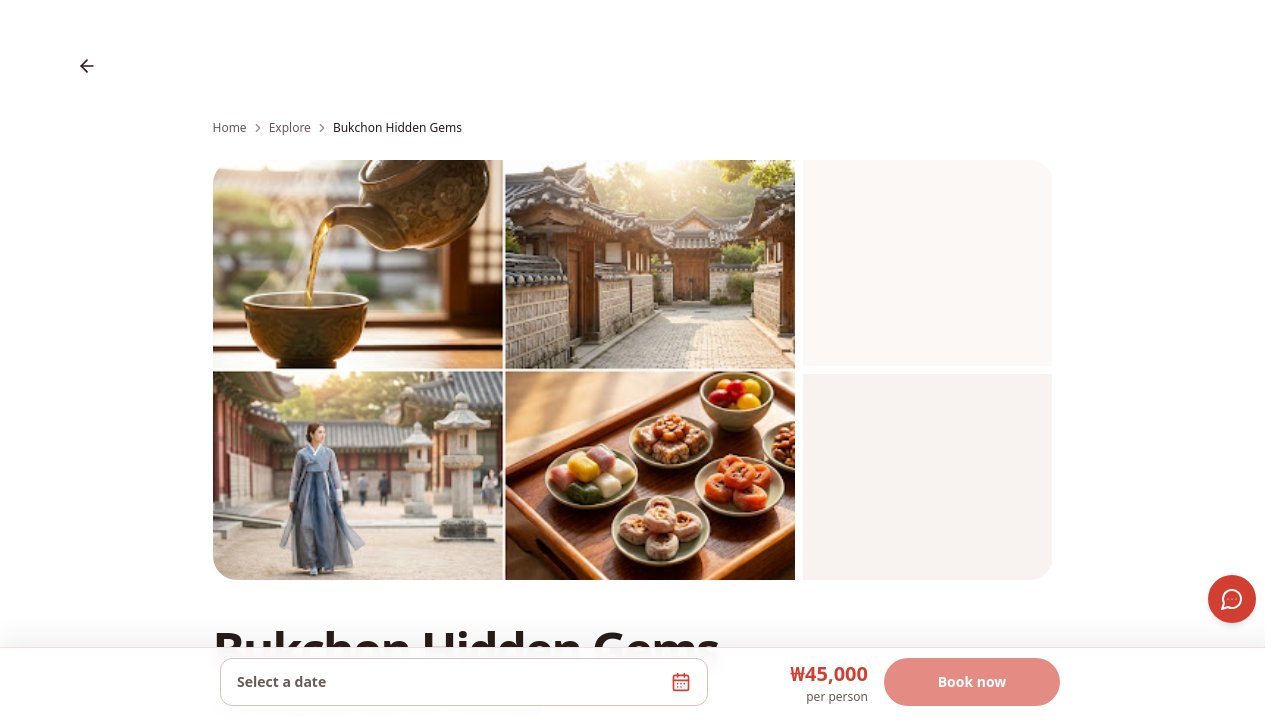
Test case: ActivityDetailContent › keeps booking available when the weather request fails
The width and height of the screenshot is (1280, 720).
Click the button with test id "date-select-box": [282, 682] box [220,658,708,706]
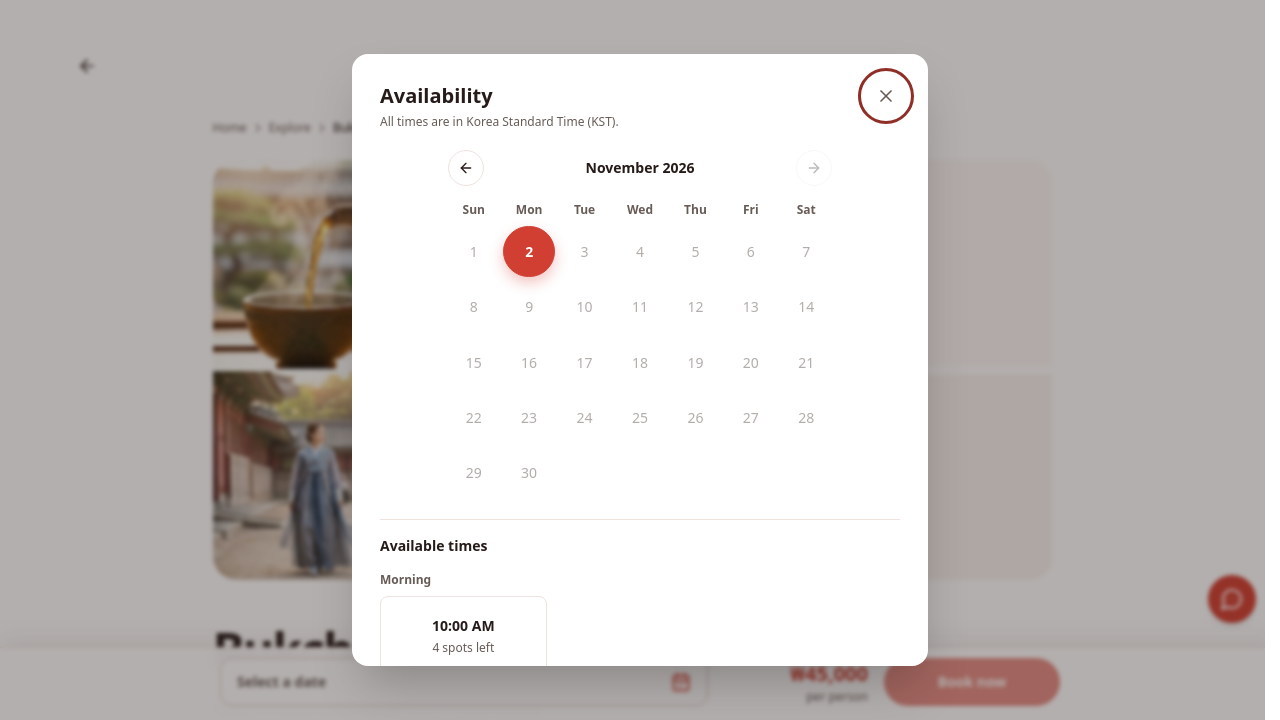
Now the dialog is shown, box [352,54,928,666]
Now the text "Available times" is shown, box [380,536,488,555]
